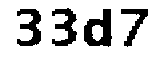3: (46, 4, 79, 51), (12, 6, 44, 48)
7: (121, 4, 154, 50)
d: (83, 4, 122, 55)
